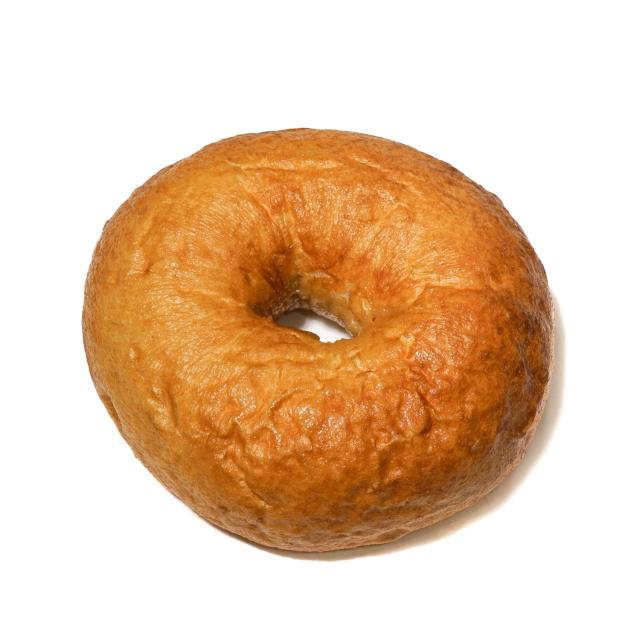Bagel: (82, 129, 554, 551)
